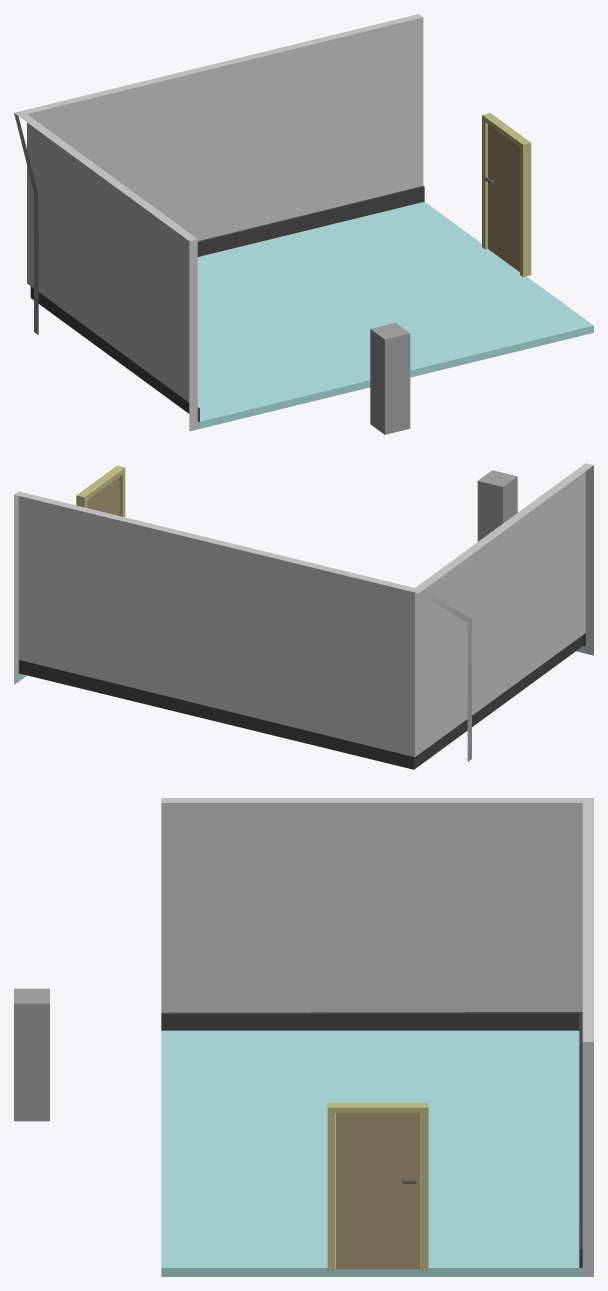
File: smallEndRoom.fbx
3 views of the same model, one above another, from view 1: azimuth 30°, elevation 25°; view 2: azimuth 150°, elevation 25°; view 3: azimuth 270°, elevation 25° (orthographic). The views are drawn at different scales.
Visible parts, largest first — view 1: room1, ref, door, doorFrame; view 2: room1, ref, doorFrame, door; view 3: room1, door, ref, doorFrame.
Part boxes in pixels (x1,y1,x2,y2): room1: [14, 14, 593, 431]; ref: [370, 323, 410, 434]; door: [485, 124, 519, 271]; doorFrame: [482, 113, 531, 276]; room1: [14, 463, 593, 769]; ref: [477, 470, 517, 541]; doorFrame: [76, 465, 125, 517]; door: [87, 477, 119, 515]; room1: [161, 798, 593, 1276]; door: [335, 1113, 420, 1269]; ref: [14, 988, 49, 1121]; doorFrame: [327, 1102, 428, 1270].
Size of the model in its own units: 842 by 360 by 804.
